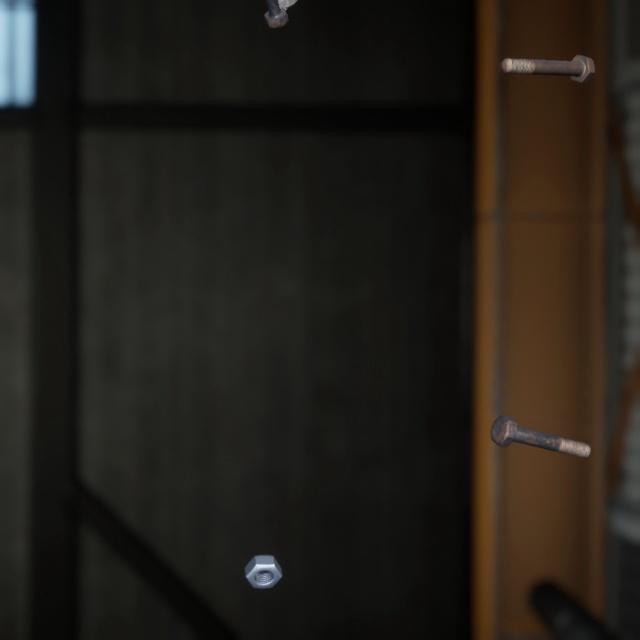bolt: (486, 389, 595, 442), (495, 40, 599, 77), (259, 0, 293, 26)
nut: (240, 527, 286, 570)
